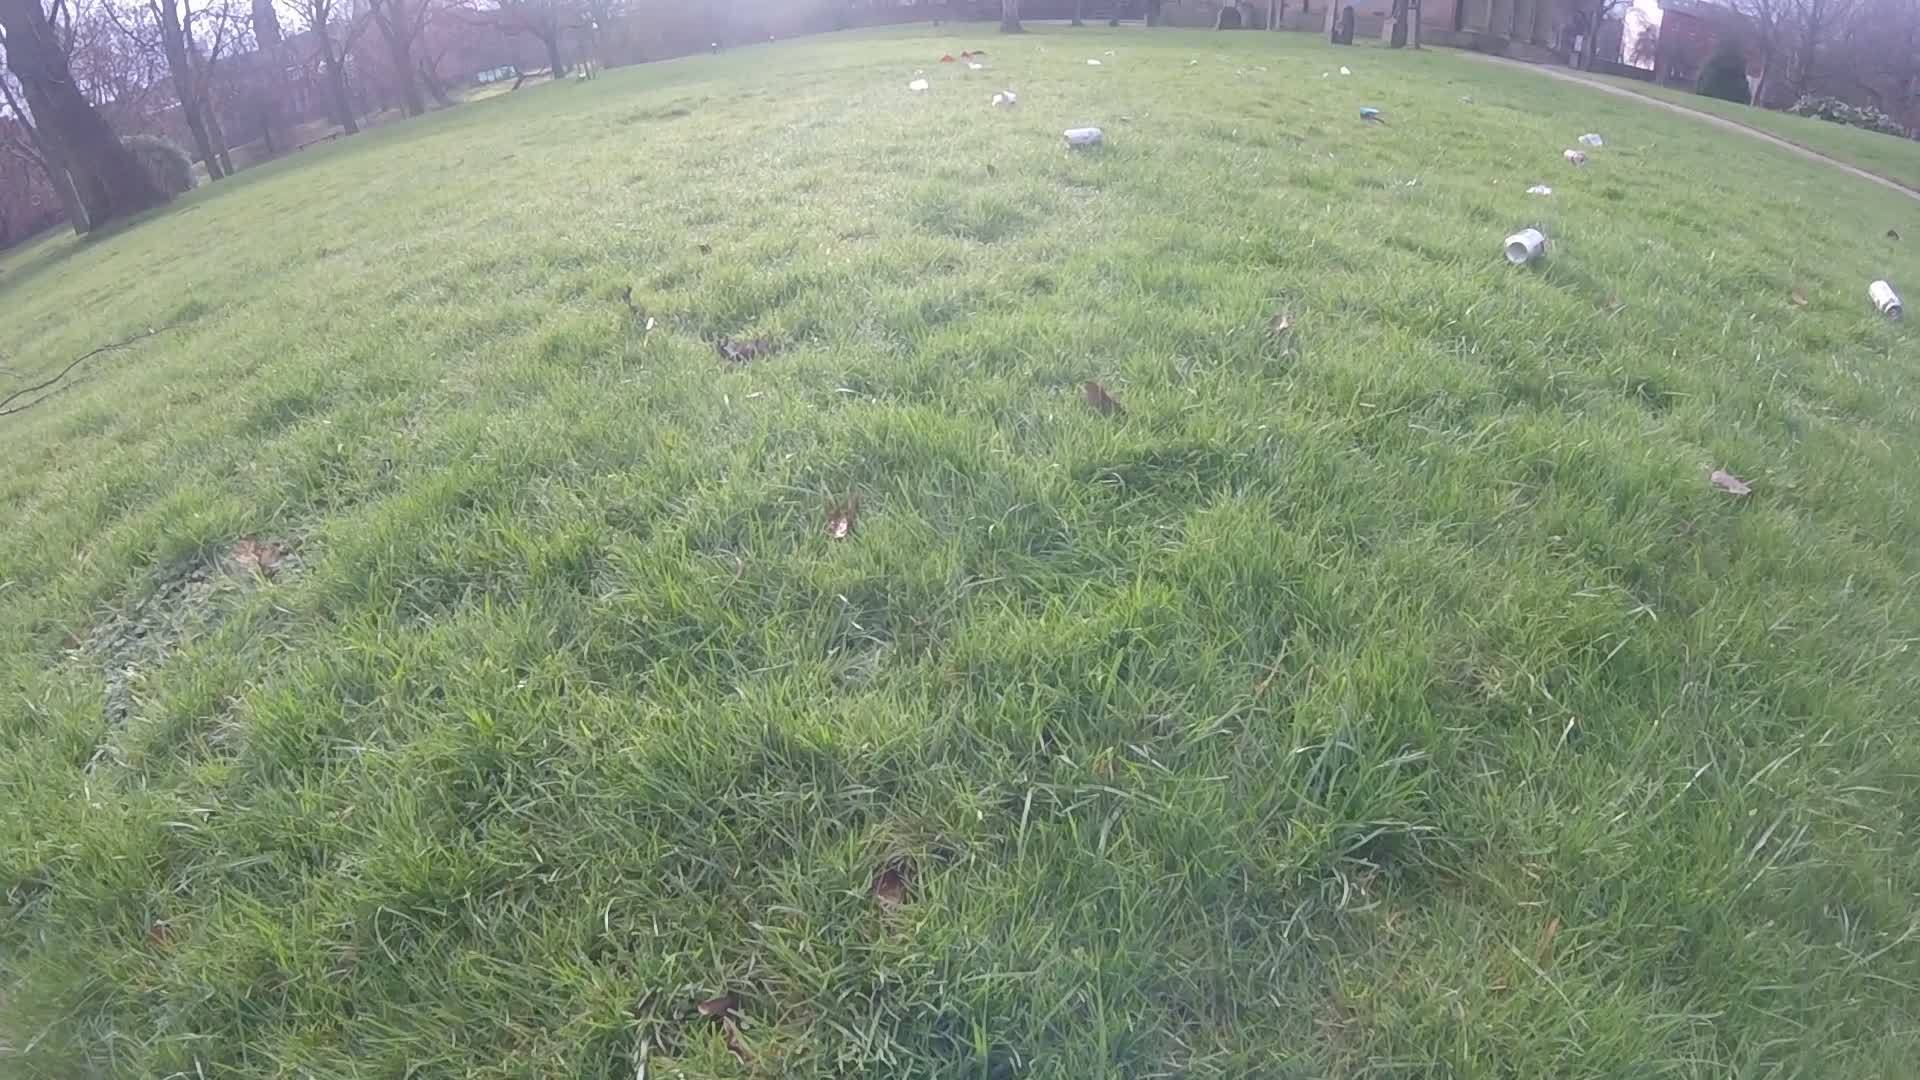litter: (1866, 276, 1904, 320), (1502, 229, 1548, 266), (1062, 127, 1100, 152), (1557, 142, 1586, 169), (1524, 186, 1556, 202), (1358, 109, 1385, 127), (993, 94, 1017, 109), (1880, 227, 1902, 244), (1581, 133, 1604, 148), (909, 79, 928, 94), (957, 62, 984, 73), (957, 51, 986, 59), (1083, 55, 1100, 67), (938, 55, 960, 63), (1338, 69, 1353, 78), (1187, 55, 1200, 65), (1320, 73, 1328, 79)
